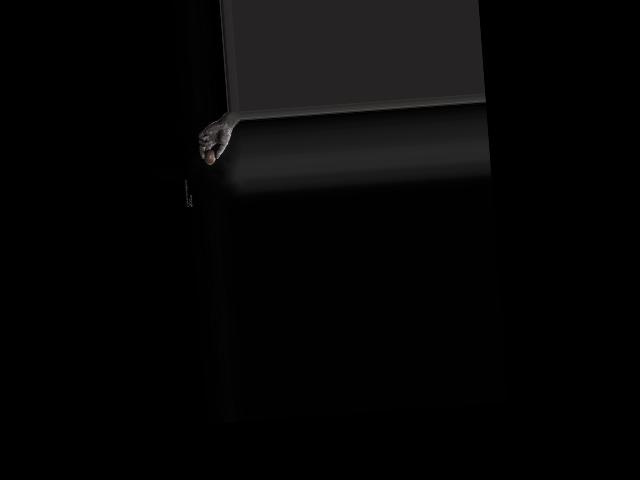egg: (203, 148, 216, 164)
